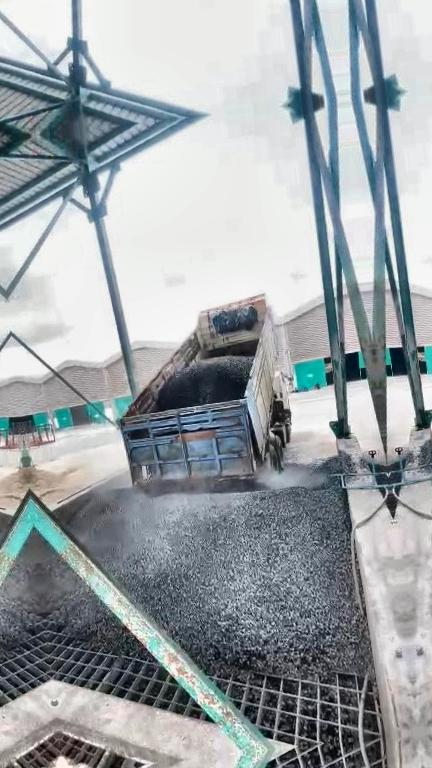gravel: (60, 448, 372, 681), (35, 535, 138, 652), (162, 357, 250, 407), (375, 464, 394, 518)
sand: (27, 466, 84, 501)
